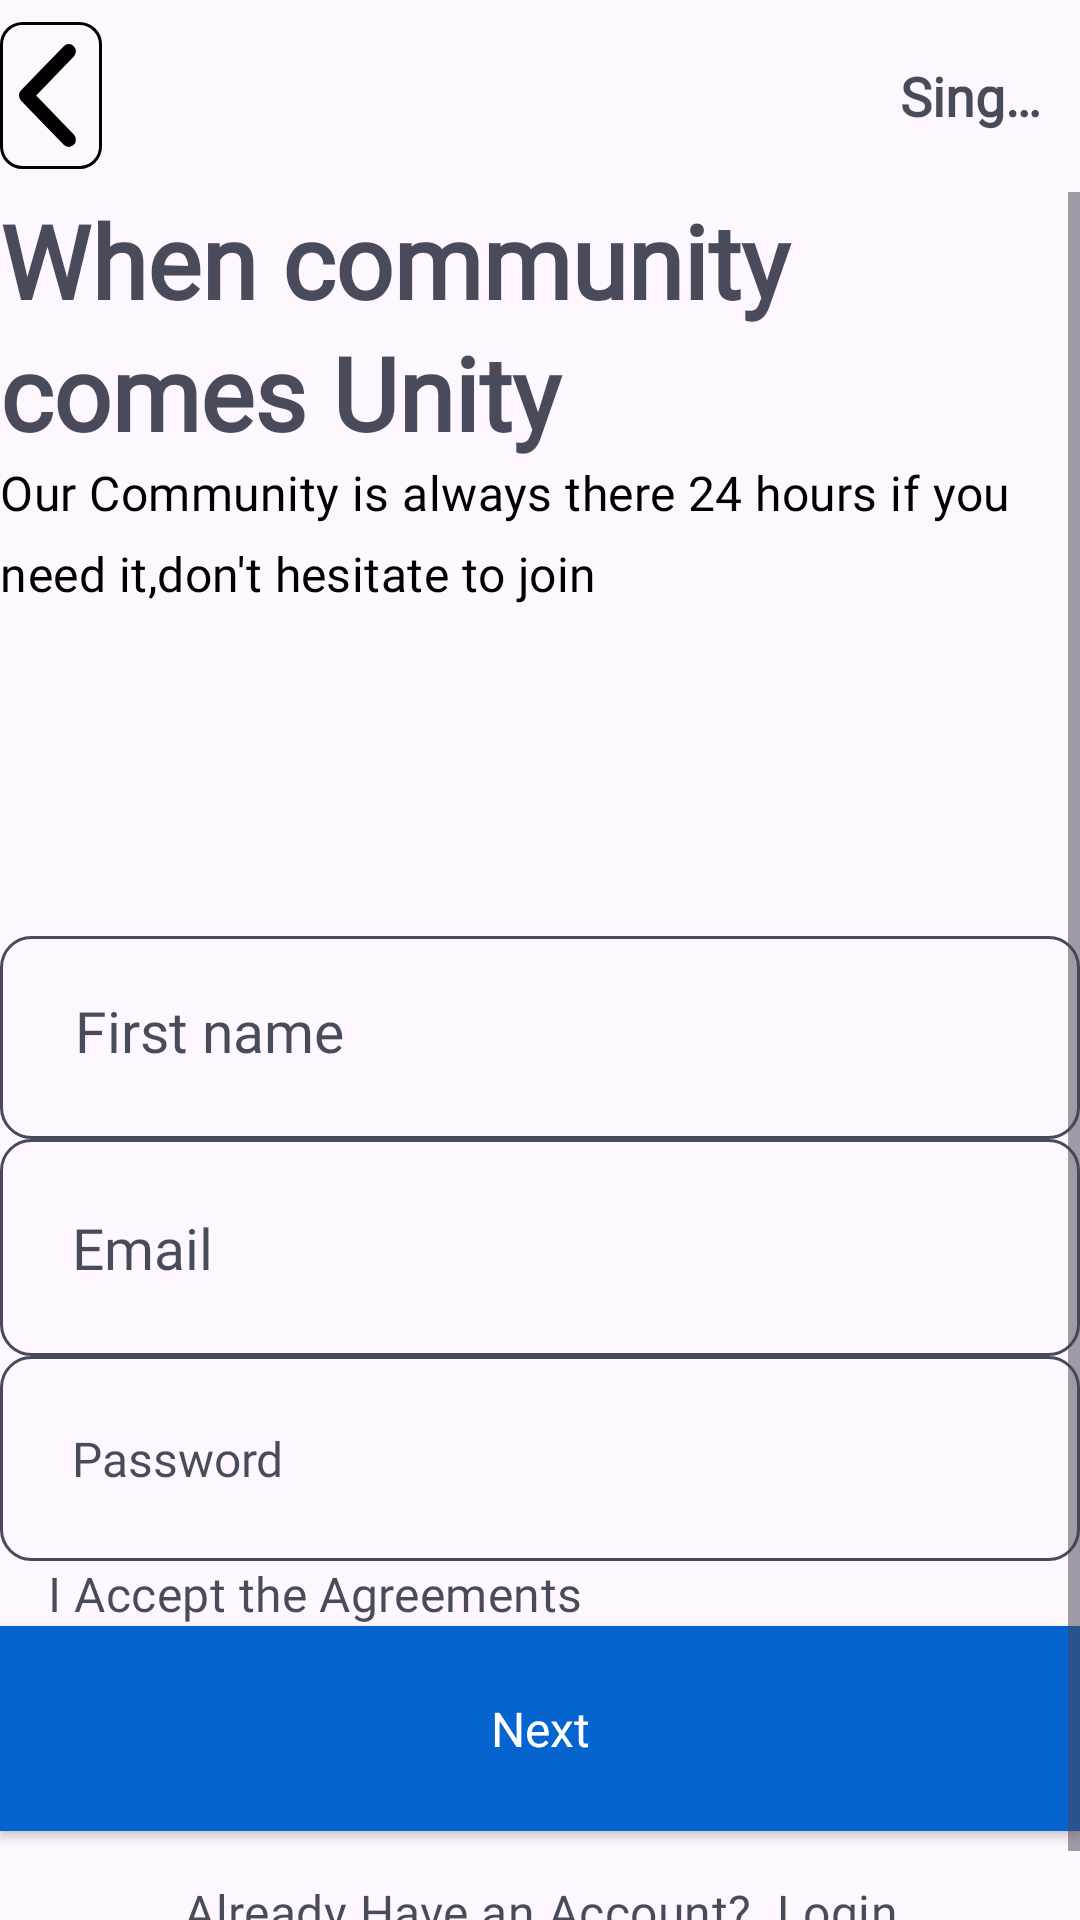

Icon bounding boxes for this 1080w x 1920h phone screenshot, format (x1, y1, x2, y2):
arrow left: (0, 22, 102, 169)
